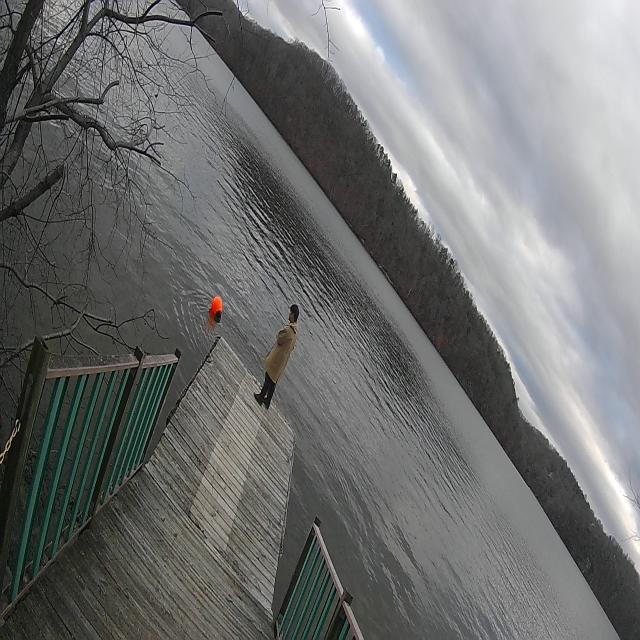Buoy: (209, 287, 225, 327)
